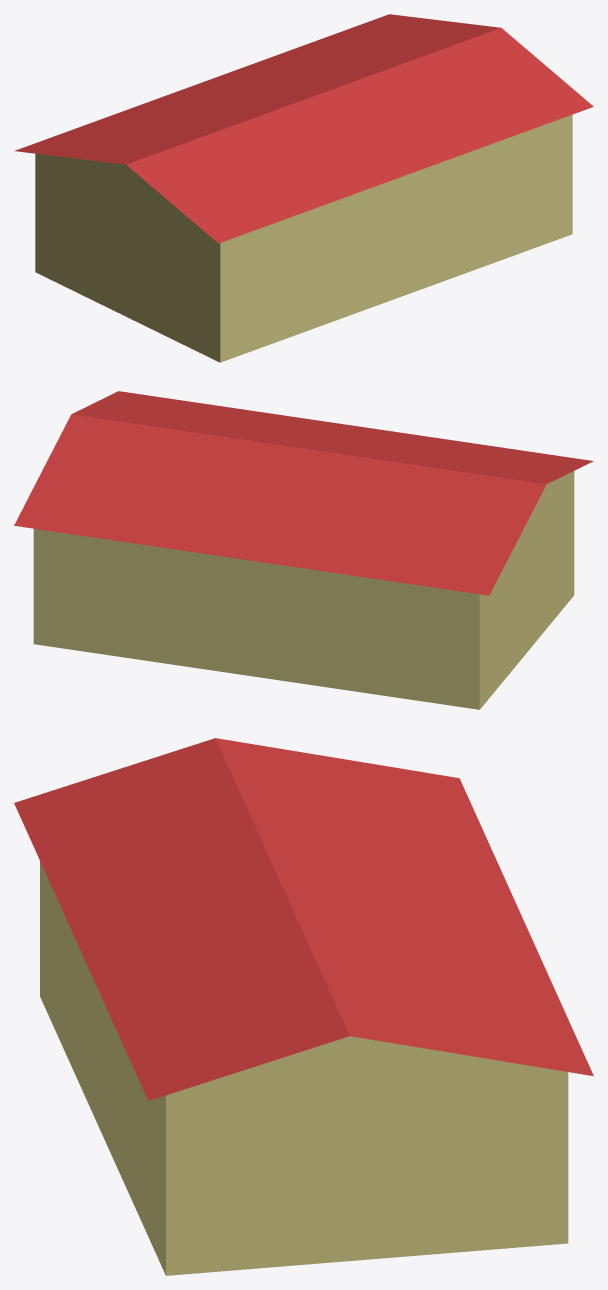
3 renders of one model, top to bottom at view 1: azimuth 30°, elevation 25°; view 2: azimuth 150°, elevation 25°; view 3: azimuth 270°, elevation 25°, orthographic. The views are drawn at different scales.
Bounding box in the file's own units: 35.78 × 26.26 × 11.71.
